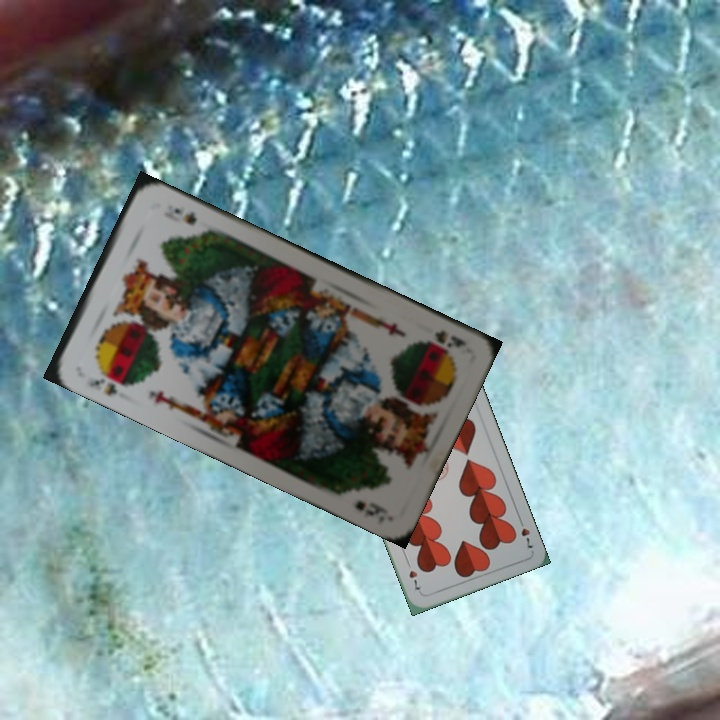H7: (514, 513, 536, 552)
SK: (84, 364, 133, 399), (423, 326, 469, 354)
